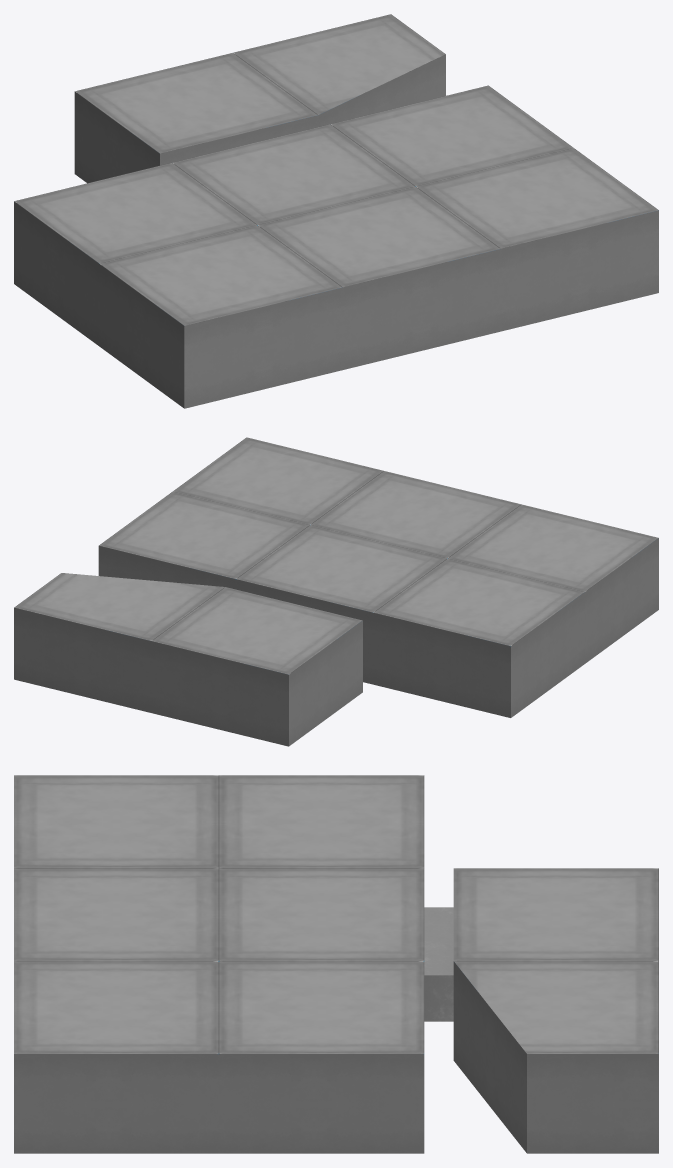
The model's file is Front Desk.fbx.
3 renders of one model, top to bottom at view 1: azimuth 30°, elevation 25°; view 2: azimuth 150°, elevation 25°; view 3: azimuth 270°, elevation 25°, orthographic. The views are drawn at different scales.
Visible parts, largest first — view 1: Environment; view 2: Environment; view 3: Environment.
Part boxes in pixels (<box>): Environment: <box>14,14,658,408</box>; Environment: <box>14,437,658,746</box>; Environment: <box>14,775,658,1153</box>.
Bounding box in the file's own units: 900 × 150 × 880.
